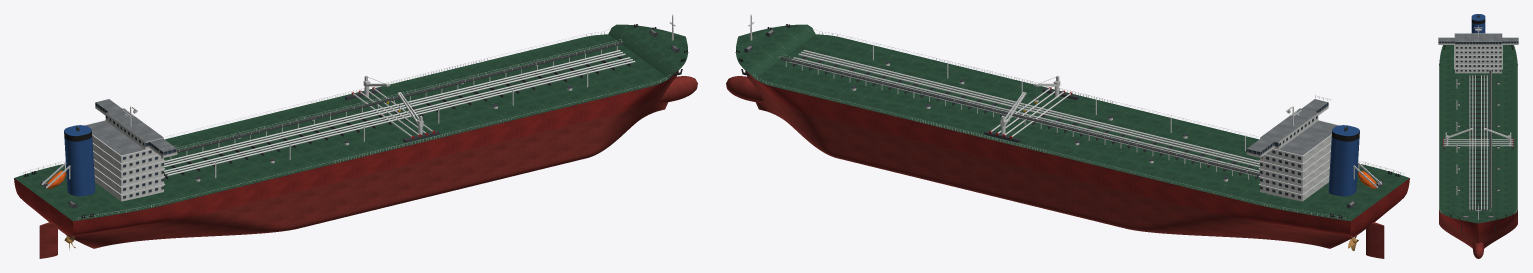
The model's file is oil-tanker-7d16a21c.glb.
The picture shows the model from 3 angles, left to right: view 1: azimuth 30°, elevation 25°; view 2: azimuth 150°, elevation 25°; view 3: azimuth 270°, elevation 25°; orthographic projection. The views are drawn at different scales.
Visible parts, largest first — view 1: Hull, Cargo pipelines, Accommodation and bridge, Catwalk, Funnel, Deck railings, Rudder, Tank hatches and vents; view 2: Hull, Cargo pipelines, Accommodation and bridge, Catwalk, Funnel, Deck railings, Rudder, Tank hatches and vents; view 3: Hull, Cargo pipelines, Accommodation and bridge, Catwalk, Deck railings, Funnel, Tank hatches and vents, Hose crane 1, Hose crane 2, Forecastle mooring gear.
Part boxes in pixels (x1,y1,x2,y2): Hull: (14,24,697,248); Cargo pipelines: (164,50,635,179); Accommodation and bridge: (84,99,177,201); Catwalk: (170,39,623,159); Funnel: (64,125,95,196); Deck railings: (19,29,670,219); Rudder: (39,222,57,258); Tank hatches and vents: (195,61,588,181); Hull: (726,24,1409,248); Cargo pipelines: (788,50,1259,179); Accommodation and bridge: (1246,99,1339,201); Catwalk: (779,54,1259,179); Funnel: (1328,125,1359,196); Deck railings: (753,29,1404,219); Rudder: (1366,222,1384,258); Tank hatches and vents: (851,44,1245,181); Hull: (1439,45,1517,258); Cargo pipelines: (1443,75,1513,210); Accommodation and bridge: (1438,33,1518,73); Catwalk: (1489,69,1491,211); Deck railings: (1439,47,1517,214); Funnel: (1471,14,1485,33); Tank hatches and vents: (1456,79,1499,194); Hose crane 1: (1445,128,1472,145); Hose crane 2: (1484,128,1511,145); Forecastle mooring gear: (1450,214,1506,220).
Size of the model in its own units: 248 by 48.1 by 44.4.
Materials: 21 (21 with a texture image).
